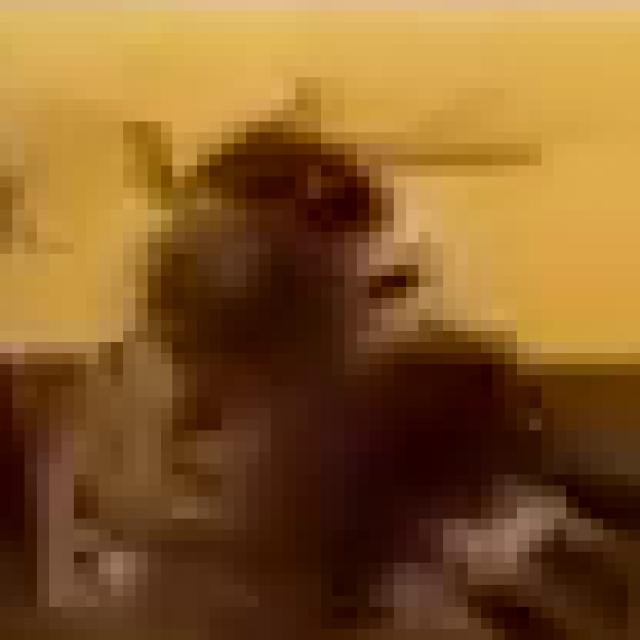honeybee: (88, 110, 515, 567)
